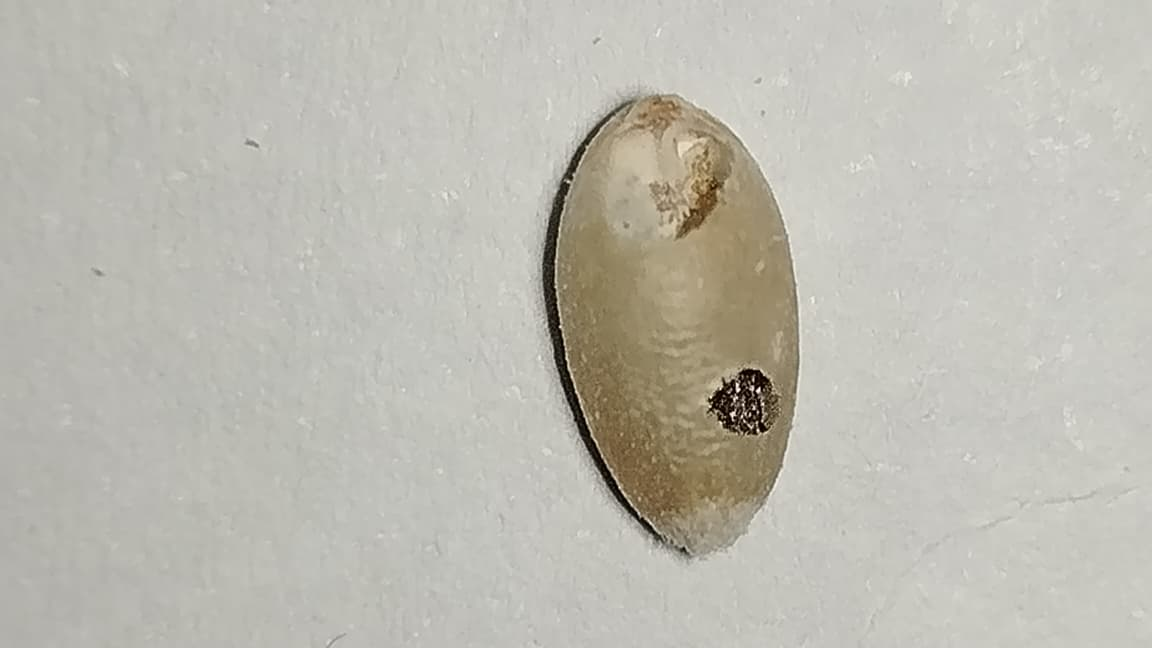damage: (553, 96, 798, 556)
insectdamage: (601, 98, 746, 271), (709, 368, 780, 435)
